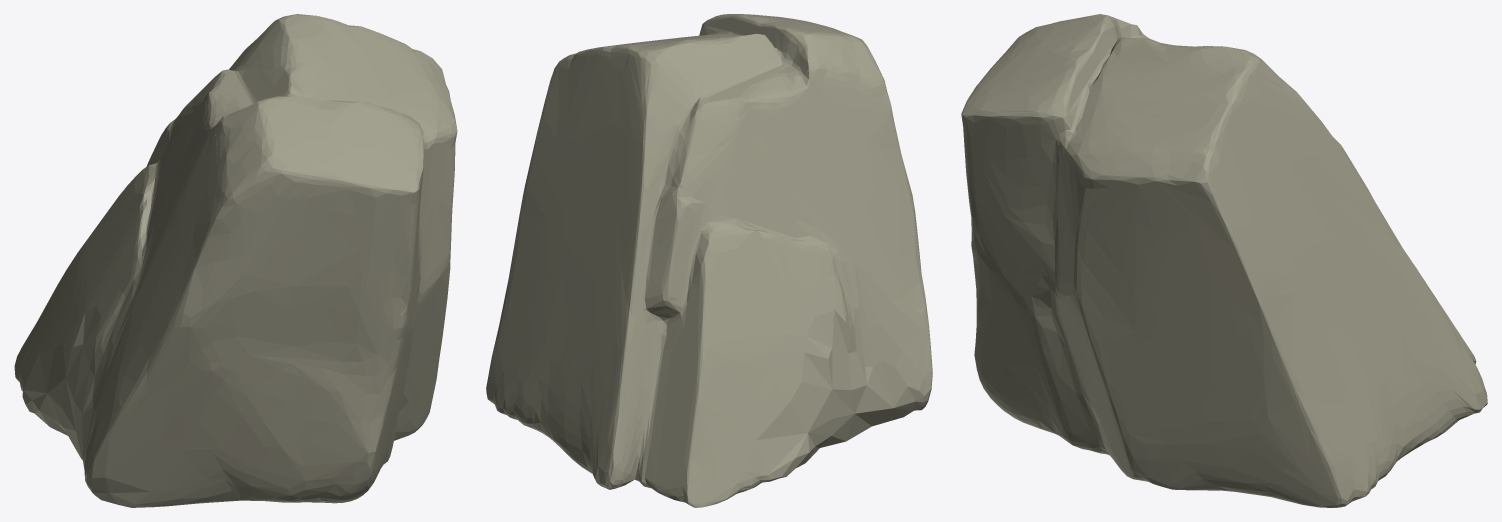
The picture shows the model from 3 angles, left to right: view 1: azimuth 30°, elevation 25°; view 2: azimuth 150°, elevation 25°; view 3: azimuth 270°, elevation 25°; orthographic projection. The views are drawn at different scales.
Parts seen in each view (by area): view 1: SM_Cliff_Bottom_Rock_02_LOD0; view 2: SM_Cliff_Bottom_Rock_02_LOD0; view 3: SM_Cliff_Bottom_Rock_02_LOD0.
Part boxes in pixels (x1,y1,x2,y2): SM_Cliff_Bottom_Rock_02_LOD0: [14, 14, 457, 507]; SM_Cliff_Bottom_Rock_02_LOD0: [486, 14, 932, 507]; SM_Cliff_Bottom_Rock_02_LOD0: [961, 14, 1487, 507].
Size of the model in its own units: 2.66 by 2.52 by 3.07.
